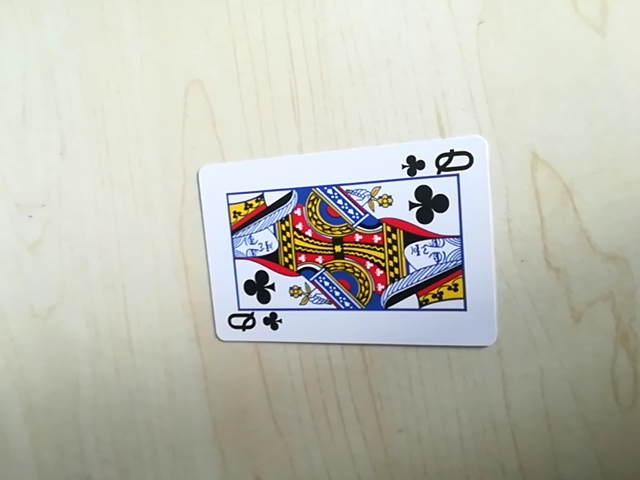mh q: (403, 146, 478, 179), (220, 307, 284, 338)
